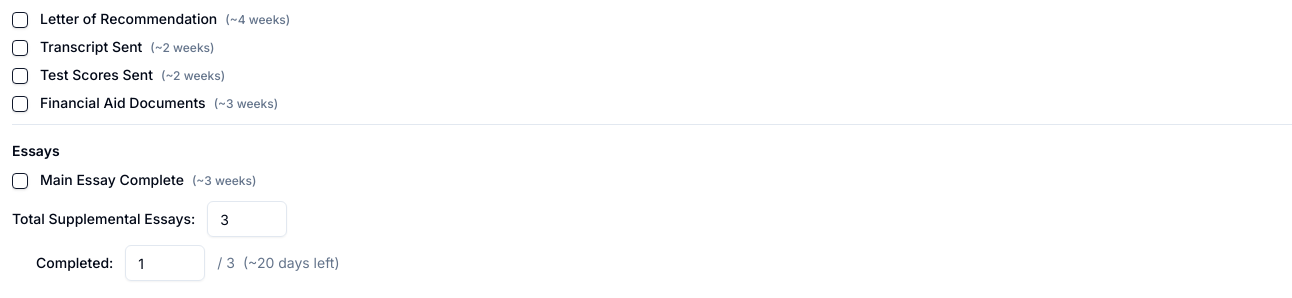
Test: ChecklistForm › Essay Count Management › should hide supplemental completed input when essay count set to 0
Replace the text in the number field labelled "Total Supplemental Essays:" with "0": (247, 219) [207,201,287,237]
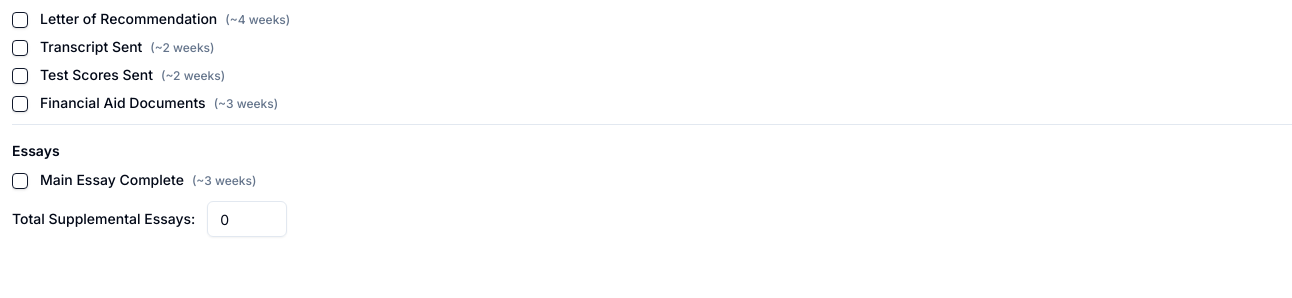
Result: the label labelled "Completed:" is gone
